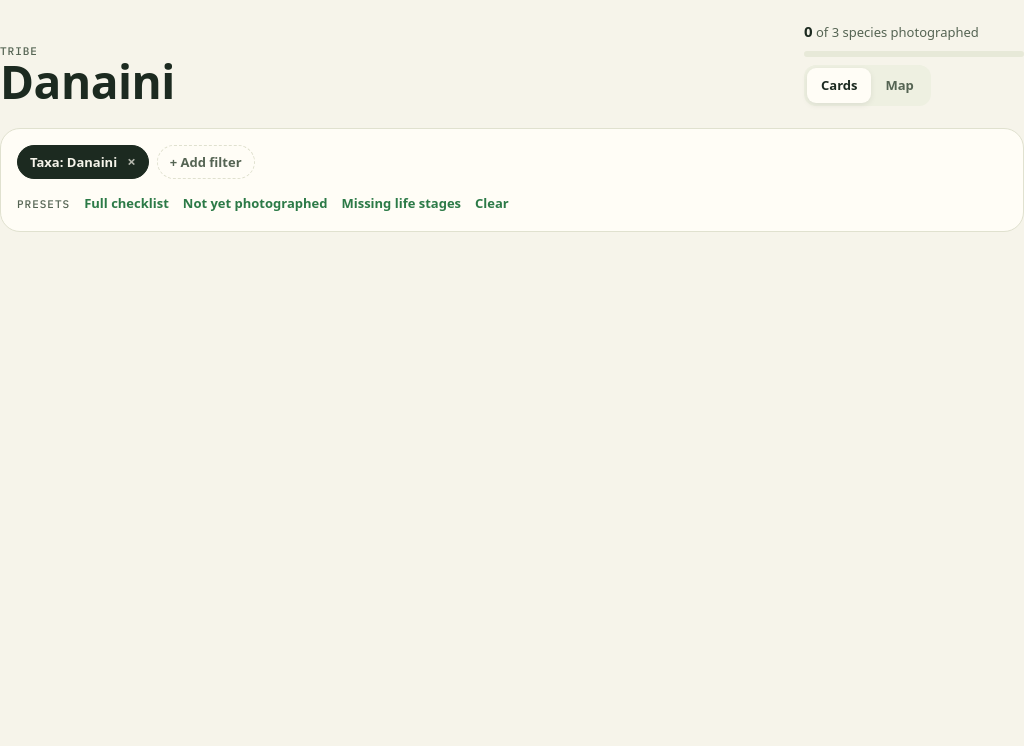
switches to the map and remembers the choice
Click the button "Map".
click(900, 85)  # box left=872, top=68, right=928, bottom=102
(page scrolled)
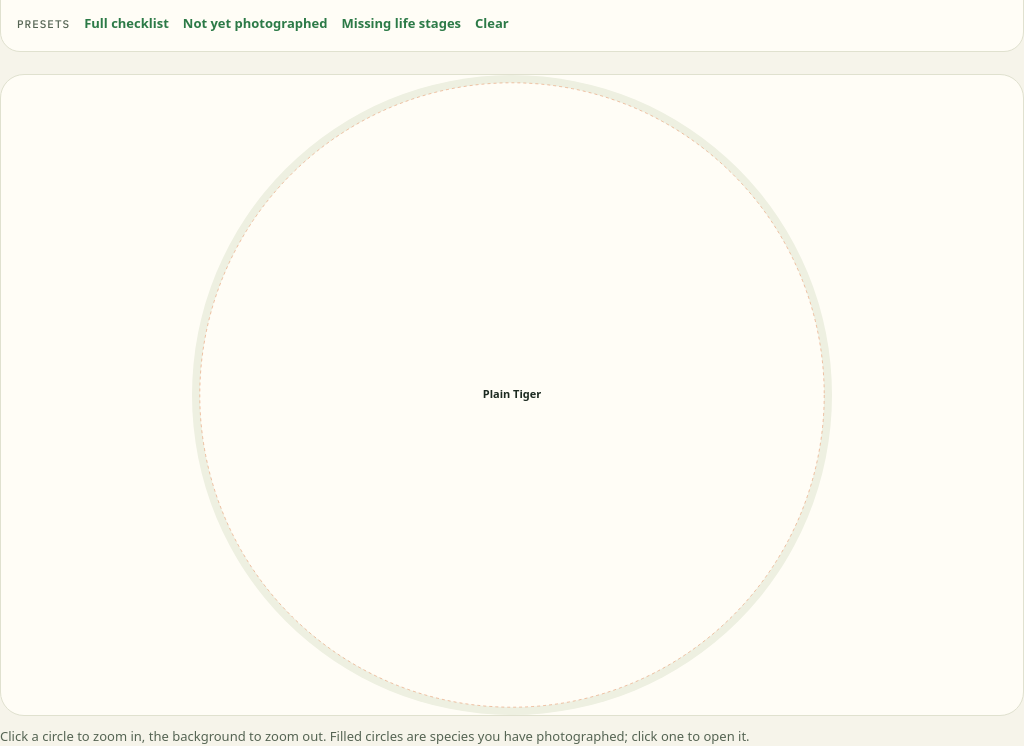
expect the picture named "Map of the butterfly tree" is shown: met
